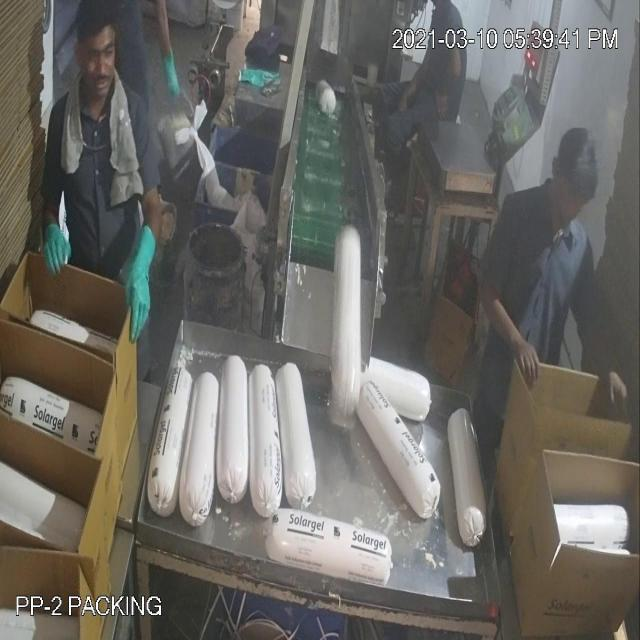No_Gloves: (52, 118, 606, 360)
